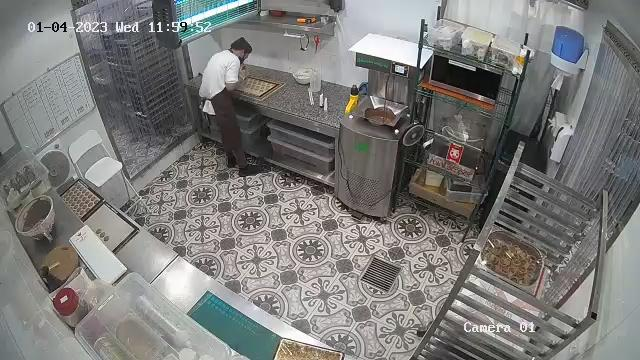apron: (199, 77, 232, 110)
